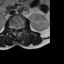CCS_stenosis: (16, 24, 18, 31)
LFS_normal: (19, 25, 21, 30)
LLS_normal: (18, 25, 19, 30)
RFS_normal: (12, 24, 14, 30)
RLS_normal: (14, 25, 16, 30)
